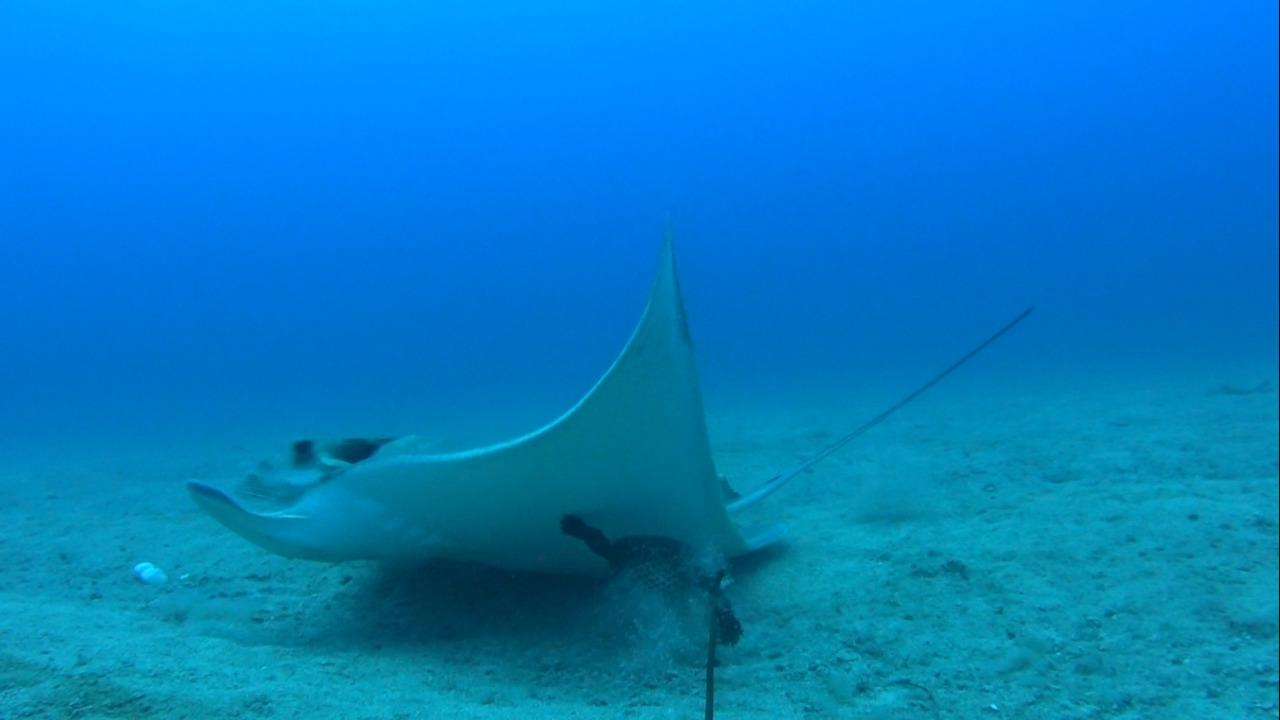myliobatis: (181, 202, 1042, 577)
